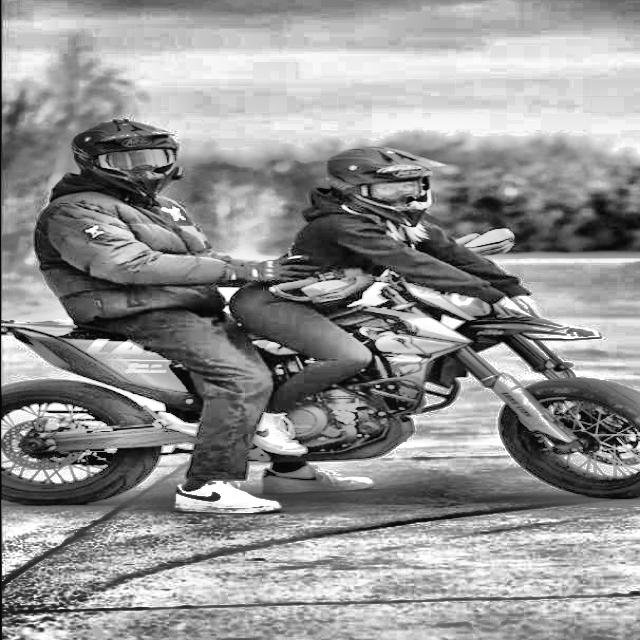Helmet: (321, 142, 454, 230), (66, 115, 186, 203)
